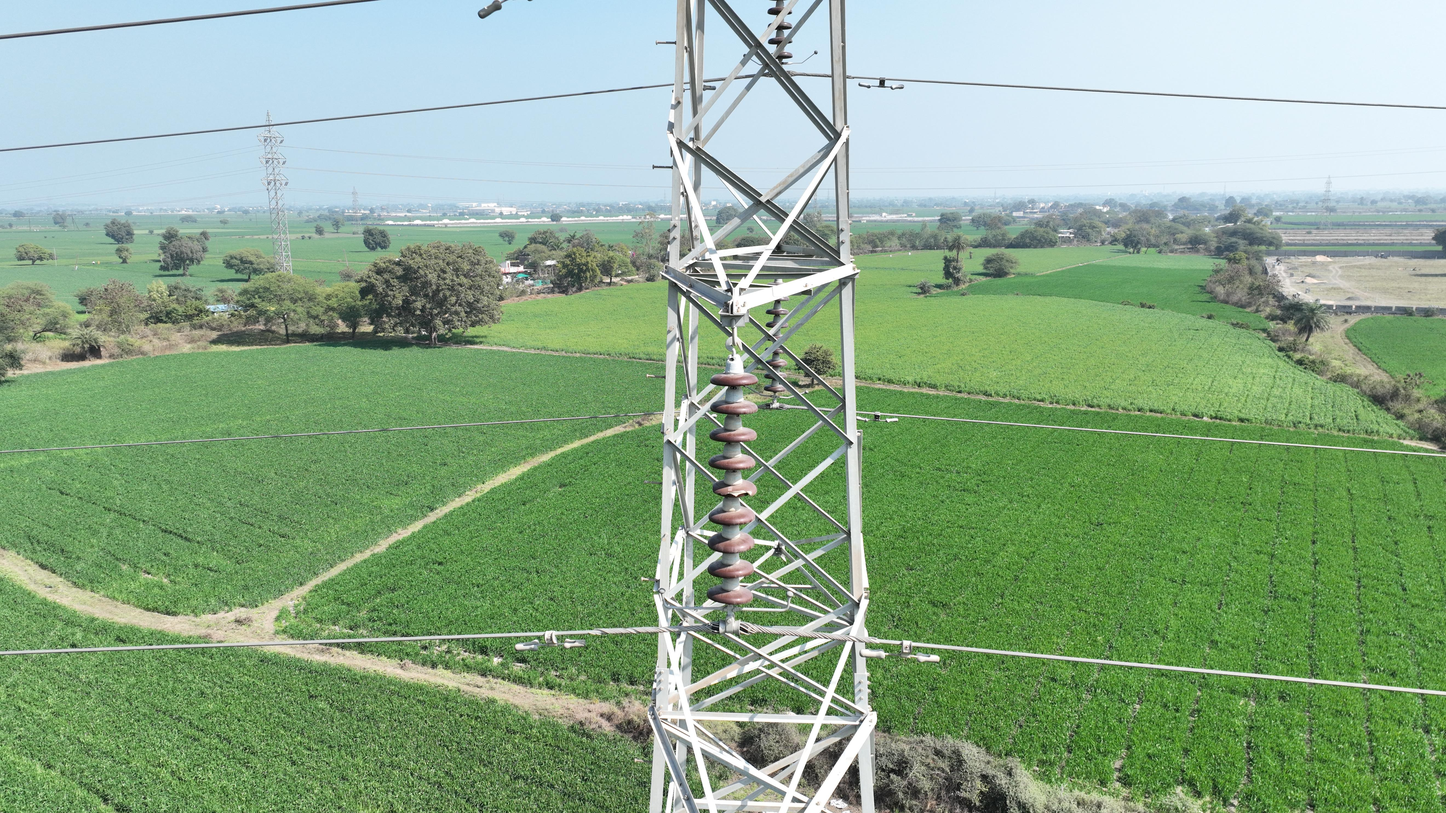broken_insulator: (703, 471, 760, 506)
